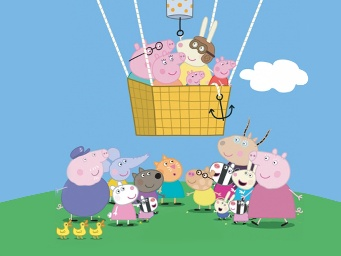Peppa: (208, 57, 236, 86)
